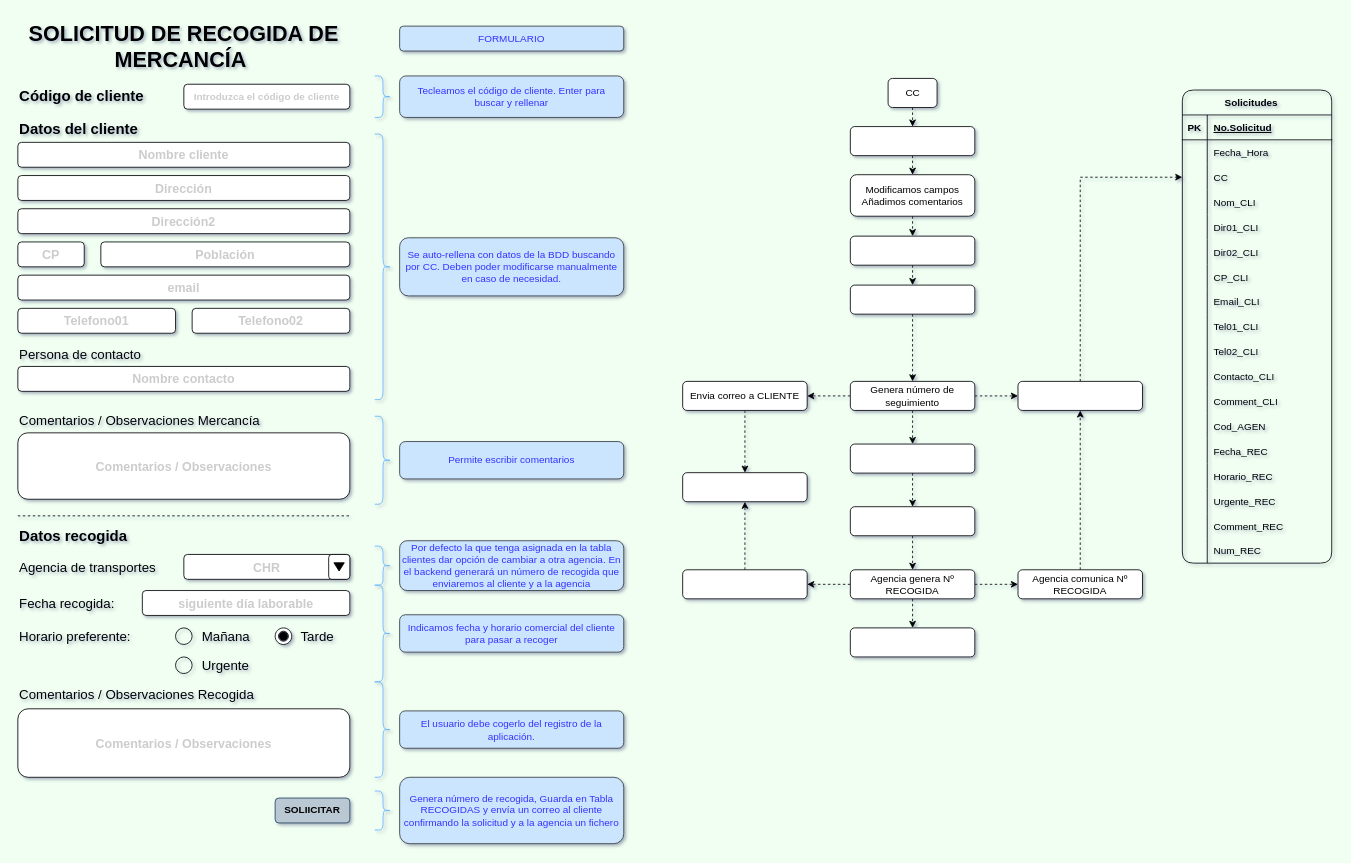
This 1351x863 diagram has some shape labels left out. Each missing label, with the centre of its shape:
"Agencia Comunica a CLI por correo" goes at point (744, 584).
"Agencia guarda en su BDD" goes at point (912, 642).
"Agencia recibe información" goes at point (912, 521).
"Campos se auto-rellenan" goes at point (912, 141).
"CLIENTE" goes at point (744, 487).
"Envía información a la AGENCIA" goes at point (912, 458).
"Guarda en tabla: SOLICITUDES" goes at point (1079, 395).
"Pulsamos boton SOLICITAR" goes at point (912, 299).
"Seleccionamos opciones" goes at point (912, 250).
